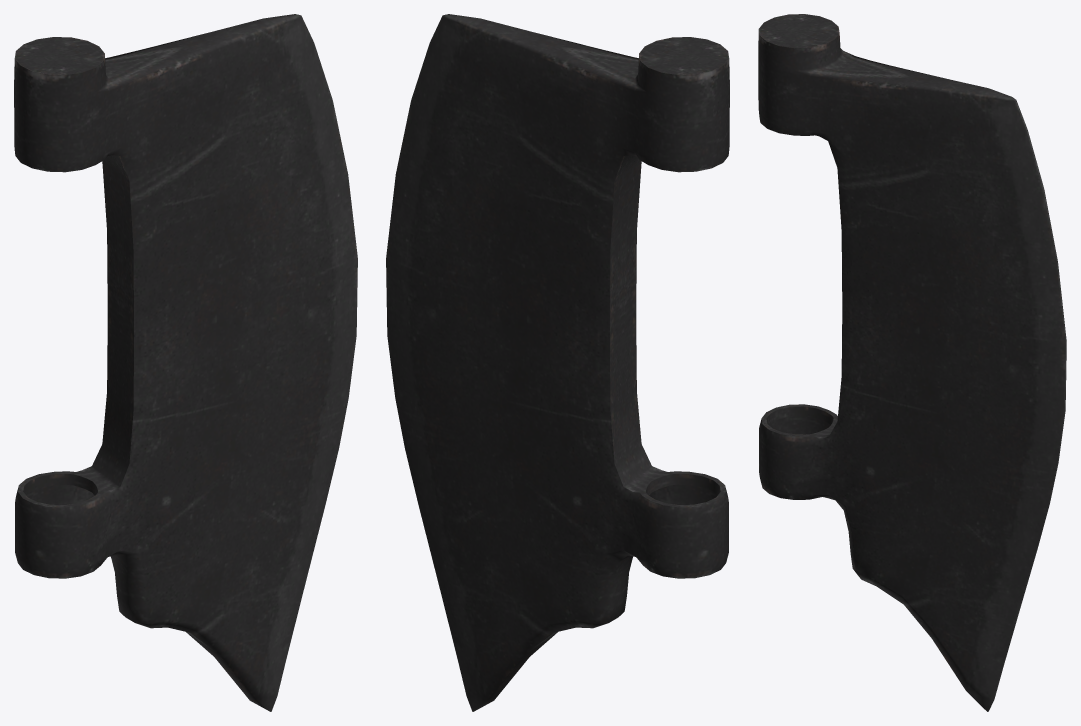
The model's file is wm_isengard_2h_axe_b01_blade.fbx.
3 views of the same model, side by side, from view 1: azimuth 30°, elevation 25°; view 2: azimuth 150°, elevation 25°; view 3: azimuth 330°, elevation 25° (orthographic). The views are drawn at different scales.
Visible parts, largest first — view 1: wm_isengard_2h_axe_b01_blade; view 2: wm_isengard_2h_axe_b01_blade; view 3: wm_isengard_2h_axe_b01_blade.
Boxes of the visible parts, <box> form: wm_isengard_2h_axe_b01_blade: <box>14,14,357,711</box>; wm_isengard_2h_axe_b01_blade: <box>386,14,729,711</box>; wm_isengard_2h_axe_b01_blade: <box>758,14,1066,711</box>.
Bounding box in the file's own units: 0.2068 × 0.049 × 0.4136.
1 material, 1 textured.
